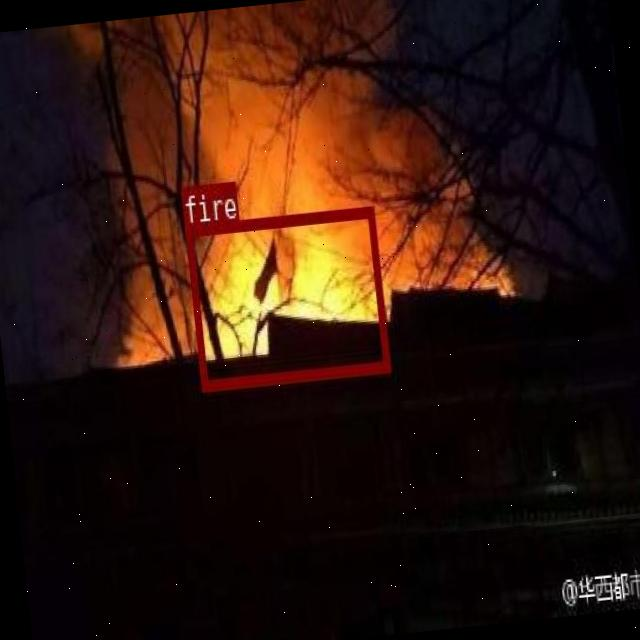fire: (184, 204, 390, 388)
